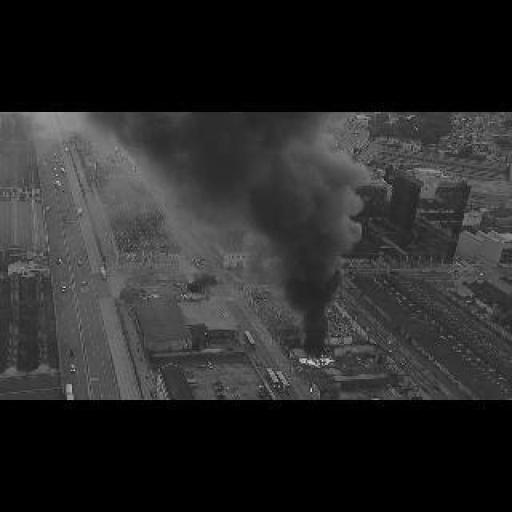smoke: (197, 125, 373, 357), (301, 352, 334, 368)
